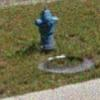a fire hydrant: (36, 9, 58, 51)
